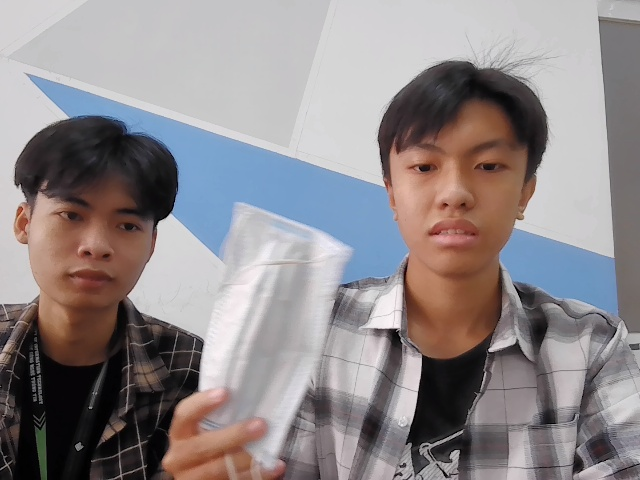human: (376, 54, 546, 273), (8, 116, 187, 312)
mask: (198, 197, 350, 462)
